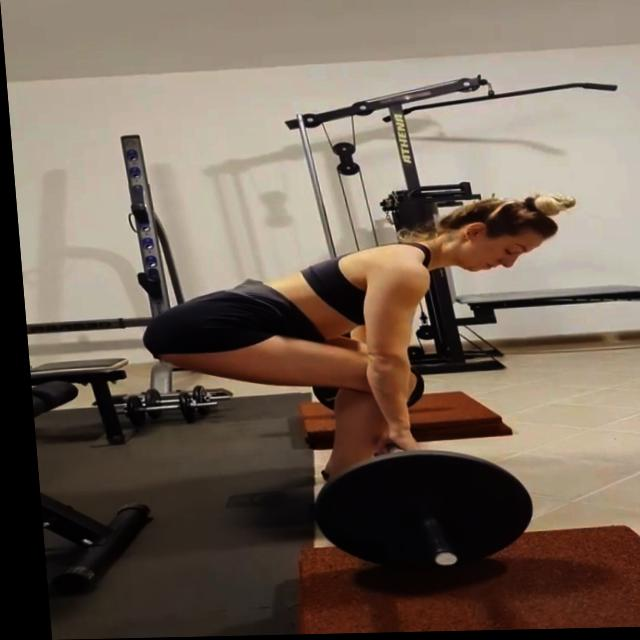barbell: (291, 447, 534, 581)
